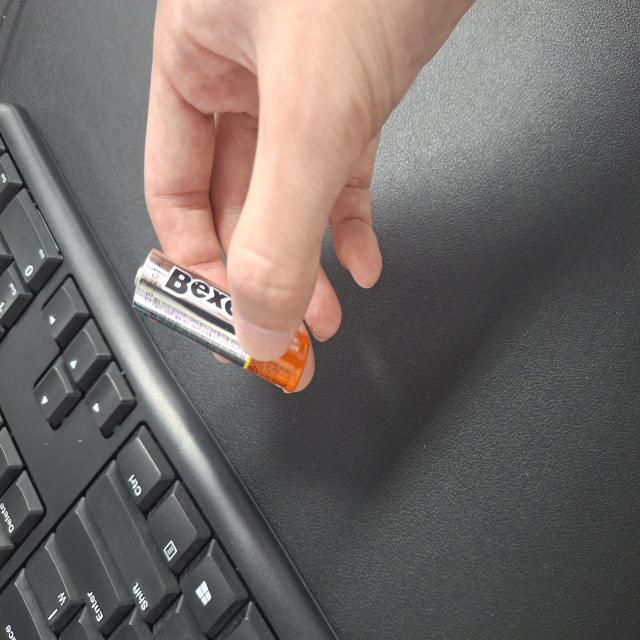AA: (188, 178, 292, 412)
